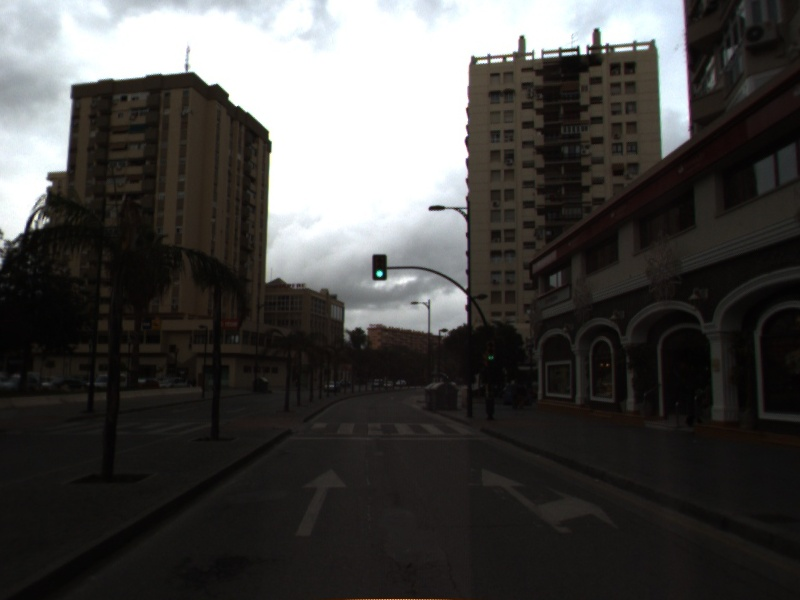STRAIGHT: (293, 465, 350, 539)
STRAIGHT_RIGHT: (479, 467, 620, 534)
